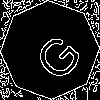G: (25, 25, 85, 85)
